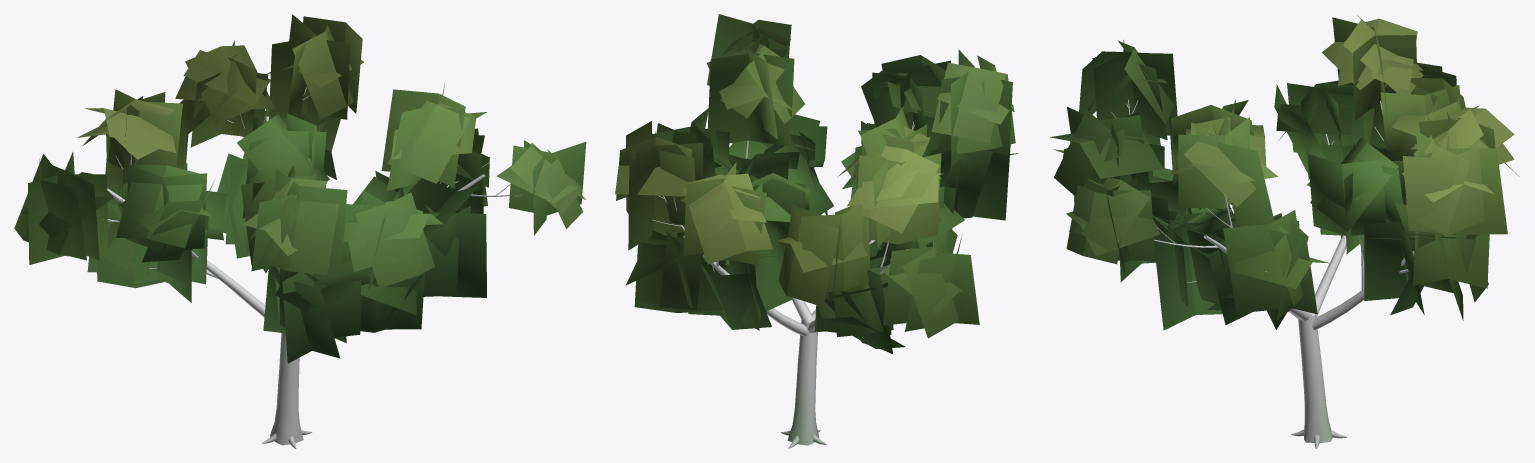
The model's file is island_tree_02.glb.
The picture shows the model from 3 angles, left to right: view 1: azimuth 30°, elevation 25°; view 2: azimuth 150°, elevation 25°; view 3: azimuth 270°, elevation 25°; orthographic projection. The views are drawn at different scales.
Parts seen in each view (by area): view 1: isl_island_tree_02; view 2: isl_island_tree_02; view 3: isl_island_tree_02.
Boxes of the visible parts, box(x1,y1,x2,y2) form: isl_island_tree_02: box(14, 14, 586, 448); isl_island_tree_02: box(615, 14, 1018, 448); isl_island_tree_02: box(1050, 15, 1519, 448).
Bounding box in the file's own units: 9.52 × 7.71 × 9.26.
